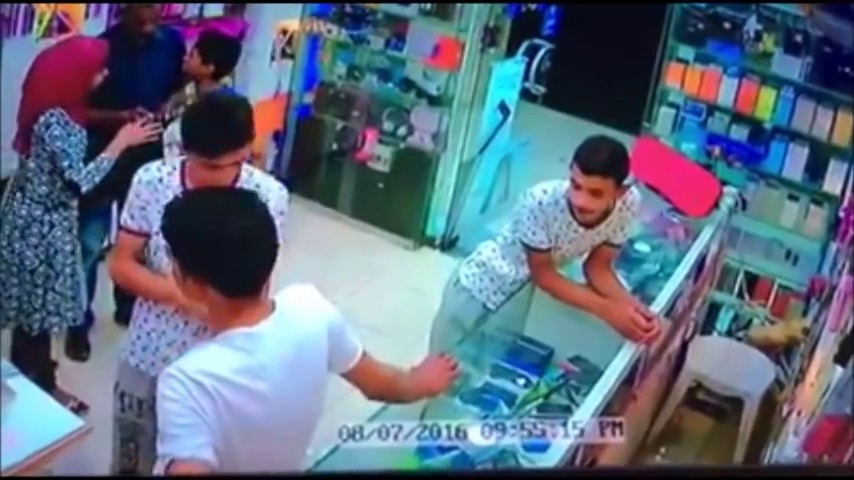face: (562, 162, 616, 225), (189, 142, 245, 184), (180, 36, 210, 74), (123, 7, 164, 33)
